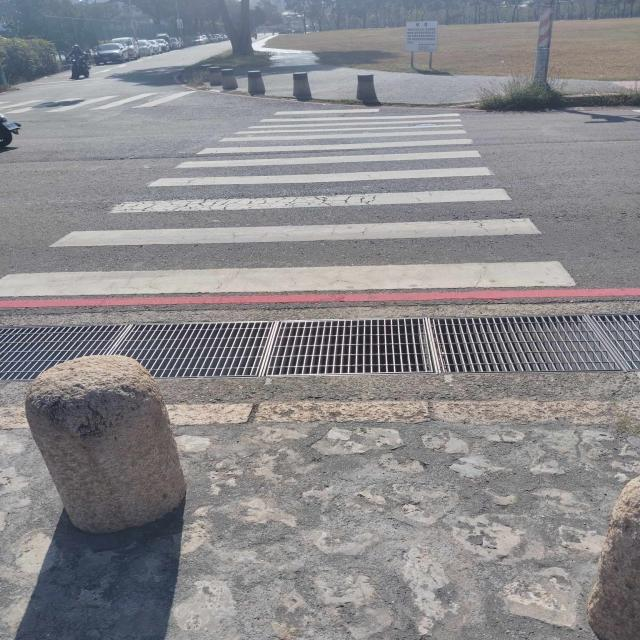zebra crossing: (0, 108, 576, 303), (0, 92, 180, 115)
